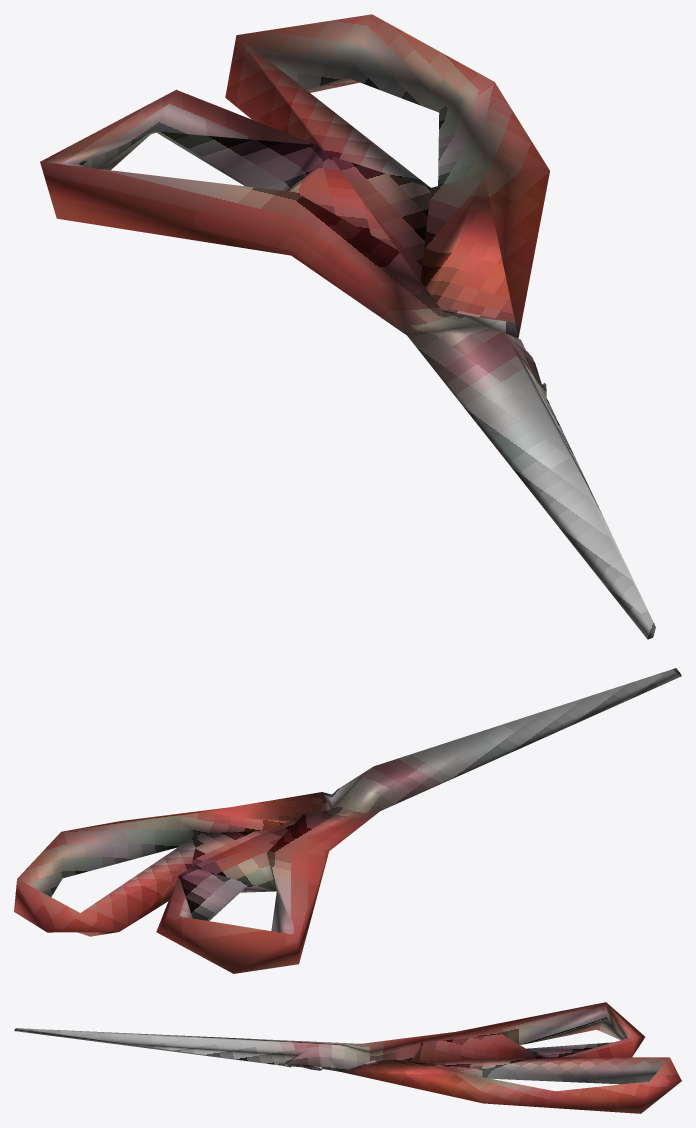
File: Diamond_Visions_Scissors_Red-low.glb
3 renders of one model, top to bottom at view 1: azimuth 30°, elevation 25°; view 2: azimuth 150°, elevation 25°; view 3: azimuth 270°, elevation 25°, orthographic. The views are drawn at different scales.
Parts seen in each view (by area): view 1: Diamond_Visions_Scissors_Red; view 2: Diamond_Visions_Scissors_Red; view 3: Diamond_Visions_Scissors_Red.
Boxes of the visible parts, bbox=[...] form: Diamond_Visions_Scissors_Red: bbox=[40, 14, 655, 639]; Diamond_Visions_Scissors_Red: bbox=[14, 668, 681, 973]; Diamond_Visions_Scissors_Red: bbox=[14, 1002, 681, 1113].
Size of the model in its own units: 0.0731 by 0.0132 by 0.2096.
Materials: 1 (1 with a texture image).
